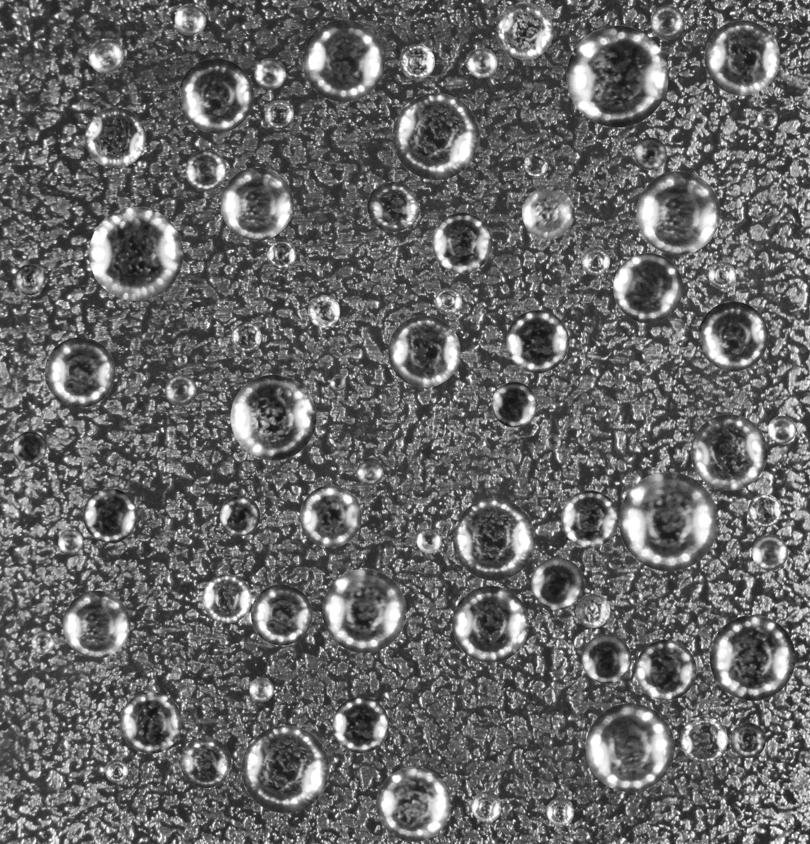Bubble: (566, 25, 668, 127), (619, 472, 718, 571), (89, 206, 183, 300), (585, 703, 674, 792), (241, 725, 329, 813), (392, 93, 479, 179), (230, 374, 316, 460), (709, 615, 795, 700), (322, 569, 406, 653), (636, 171, 720, 254), (302, 19, 384, 101), (453, 498, 535, 580), (452, 586, 528, 662), (691, 414, 767, 490), (704, 20, 780, 95), (178, 58, 253, 133), (376, 767, 451, 841), (220, 167, 293, 240), (388, 315, 460, 387), (44, 337, 115, 407), (698, 301, 768, 371), (613, 253, 683, 322), (62, 590, 130, 658), (506, 310, 569, 373), (299, 485, 361, 547), (120, 692, 181, 753), (635, 639, 696, 700), (251, 584, 312, 645), (85, 107, 145, 168), (432, 212, 492, 273), (561, 490, 618, 547), (332, 696, 389, 753), (496, 2, 553, 59), (83, 488, 137, 543), (531, 557, 583, 609), (522, 187, 574, 239), (367, 181, 418, 232), (180, 737, 231, 788), (581, 634, 631, 683), (202, 574, 251, 623), (680, 716, 727, 763), (491, 382, 537, 427), (219, 495, 260, 536), (185, 150, 226, 191), (730, 722, 765, 758), (752, 535, 787, 570), (88, 38, 123, 73), (399, 44, 434, 79), (576, 593, 610, 627), (650, 5, 684, 39), (13, 431, 46, 464), (748, 494, 781, 527), (307, 295, 340, 327), (174, 3, 206, 35), (634, 137, 666, 169), (165, 374, 196, 406), (14, 264, 45, 295), (254, 58, 285, 89), (471, 791, 502, 822), (467, 47, 497, 78), (266, 239, 296, 269), (231, 322, 261, 351), (581, 246, 610, 275), (264, 100, 293, 129), (546, 797, 574, 825), (708, 261, 736, 289), (768, 415, 795, 443), (356, 458, 383, 485), (435, 287, 461, 314), (58, 529, 83, 554), (249, 677, 273, 702), (416, 529, 440, 553), (524, 152, 548, 176), (31, 631, 54, 653), (105, 759, 127, 782), (757, 108, 777, 129), (330, 375, 346, 391), (545, 434, 560, 449), (629, 591, 643, 605), (177, 354, 187, 364)
